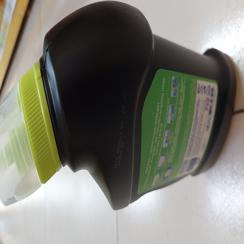vim black: (1, 1, 240, 212)
